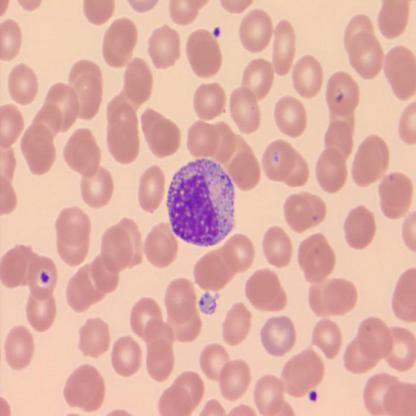Metamyelocyte: (165, 156, 238, 249)
